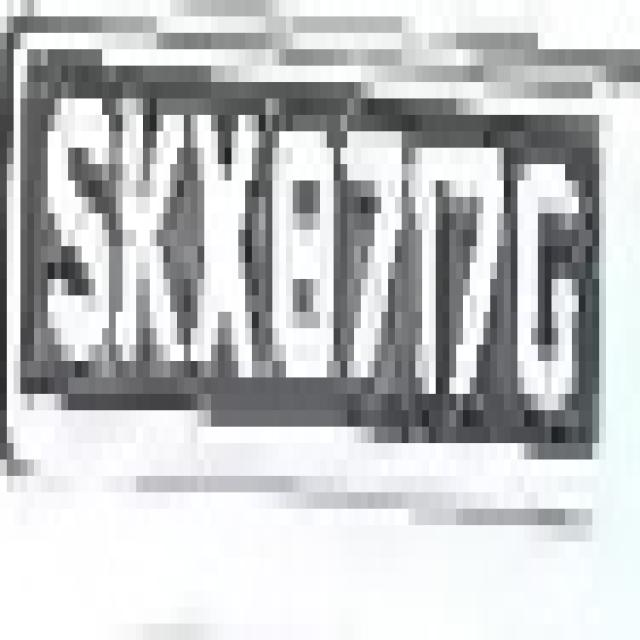1: (382, 82, 449, 443)
7: (422, 82, 497, 460), (320, 49, 395, 410)
8: (238, 66, 340, 410)
G: (497, 98, 586, 476)
K: (95, 82, 177, 410)
S: (34, 66, 116, 427)
X: (184, 66, 252, 393)
